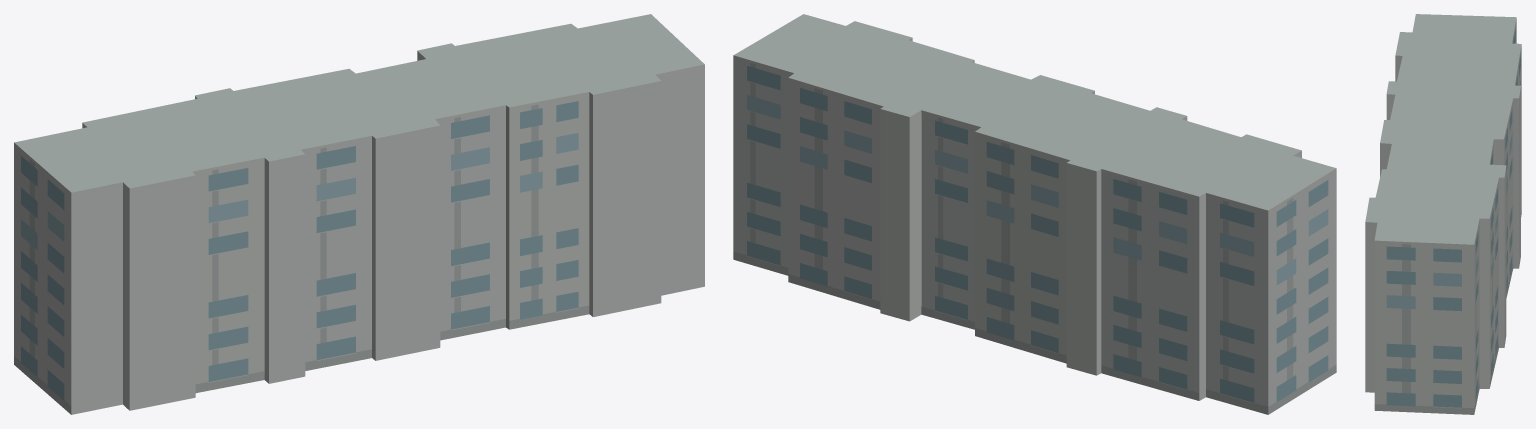
File: survey-upis-32955749.glb
3 renders of one model, left to right at view 1: azimuth 30°, elevation 25°; view 2: azimuth 150°, elevation 25°; view 3: azimuth 270°, elevation 25°, orthographic. The views are drawn at different scales.
Visible parts, largest first — view 1: survey-upis-32955749.tmp; view 2: survey-upis-32955749.tmp; view 3: survey-upis-32955749.tmp.
Boxes of the visible parts, x1,y1,x2,y2 form: survey-upis-32955749.tmp: [14, 14, 704, 414]; survey-upis-32955749.tmp: [733, 14, 1336, 414]; survey-upis-32955749.tmp: [1365, 14, 1521, 414].
Bounding box in the file's own units: 56.72 × 19.5 × 16.23.
